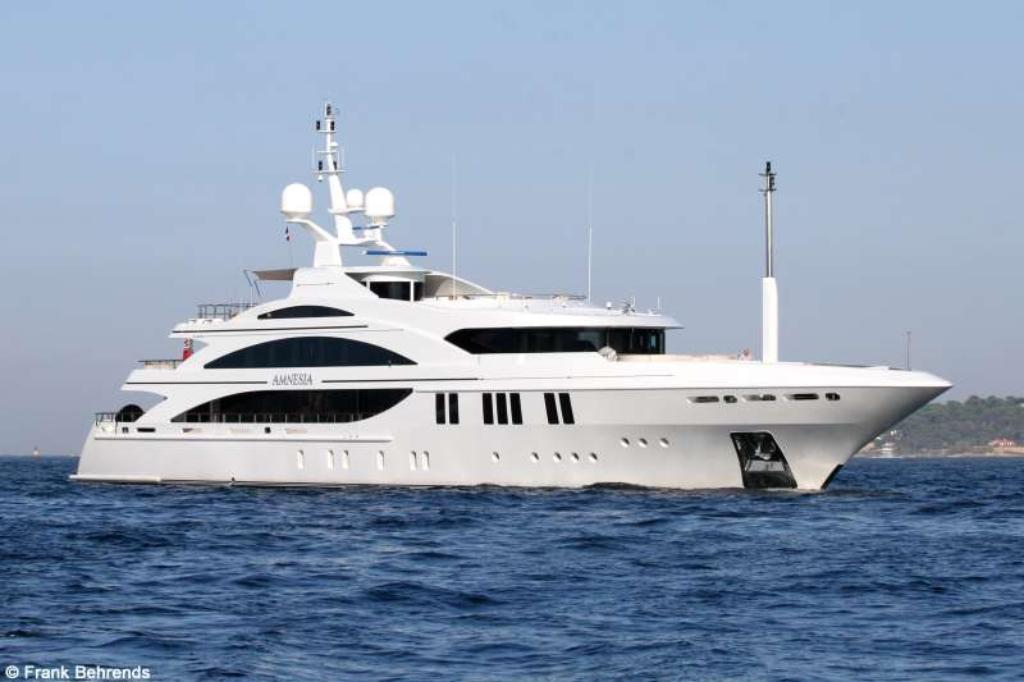PassengerShip: (67, 93, 955, 490)
